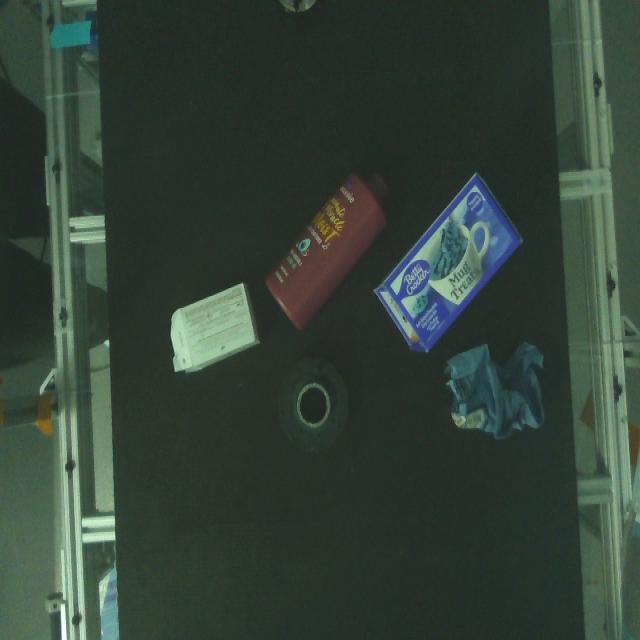non-paper: (259, 171, 395, 330), (266, 344, 357, 474)
paper: (380, 162, 523, 355), (438, 334, 556, 446), (160, 278, 263, 373)
